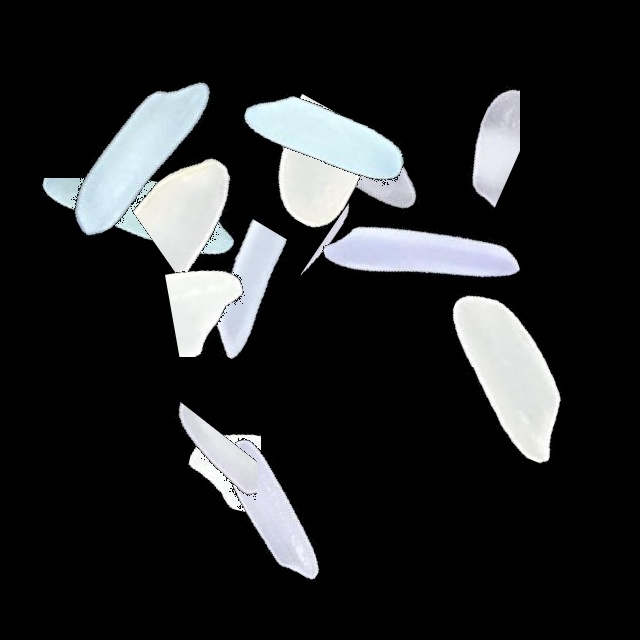Broken: (255, 114, 505, 283), (153, 180, 319, 430), (5, 178, 255, 331), (238, 53, 380, 303), (89, 135, 339, 276), (127, 369, 257, 619), (392, 12, 520, 262), (297, 171, 405, 421), (161, 335, 261, 585), (94, 263, 344, 357)
Full: (18, 28, 268, 278), (293, 130, 543, 380), (199, 8, 449, 258), (380, 250, 630, 500), (148, 384, 398, 634)
